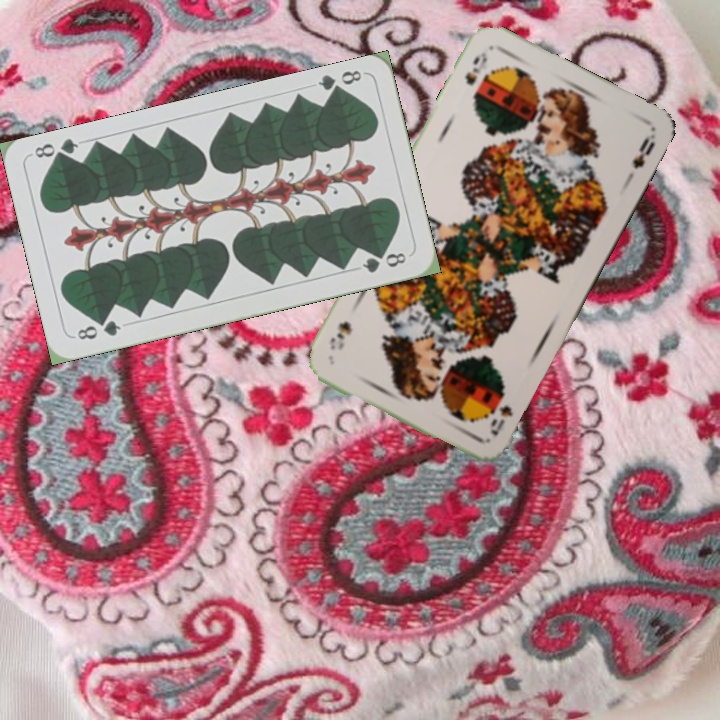G8: (314, 66, 367, 99), (72, 316, 124, 343)
SO: (461, 48, 490, 88), (486, 401, 516, 439)
